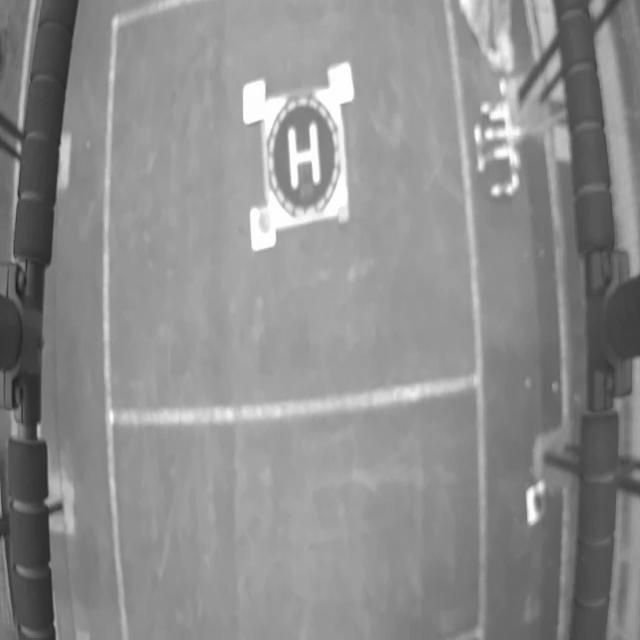Helipad: (288, 121, 322, 190)
